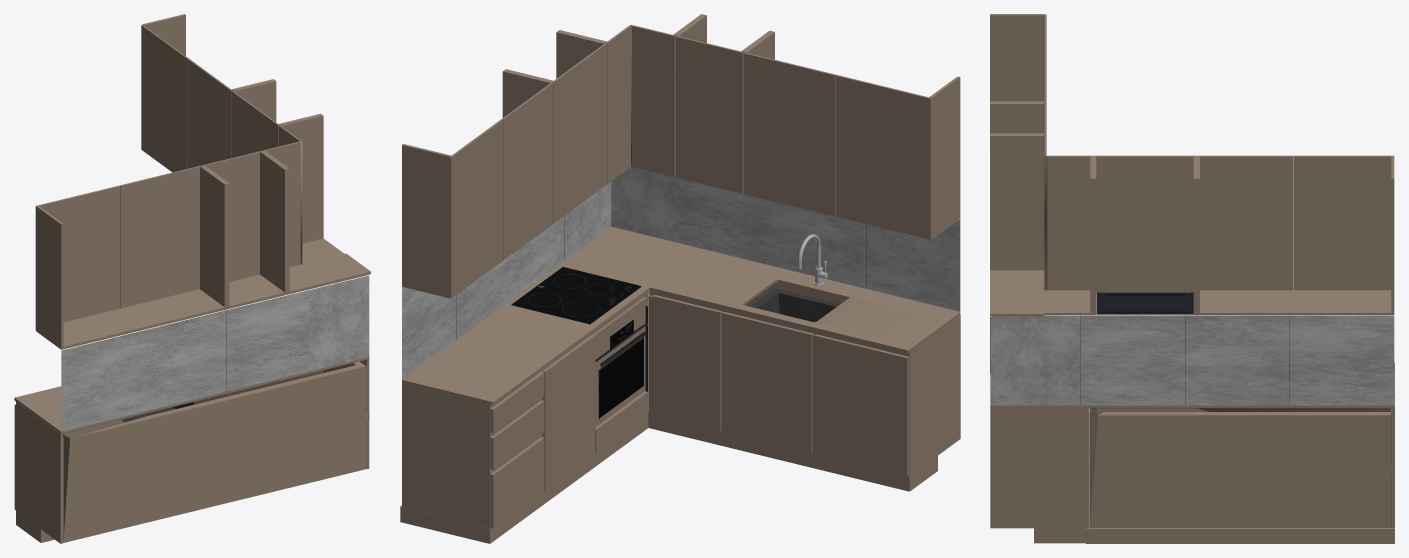
The picture shows the model from 3 angles, left to right: view 1: azimuth 30°, elevation 25°; view 2: azimuth 150°, elevation 25°; view 3: azimuth 270°, elevation 25°; orthographic projection. The views are drawn at different scales.
Visible parts, largest first — view 1: кухня.004, Плоскость.012; view 2: кухня.004, Плоскость.012, Плоскость.011, Group2132584548, Ovens.002, kitchen sink001.002; view 3: кухня.004, Плоскость.011, Hood.002.
Part boxes in pixels (x1,y1,x2,y2): кухня.004: (14, 14, 370, 543); Плоскость.012: (61, 275, 369, 431); кухня.004: (400, 14, 960, 543); Плоскость.012: (611, 166, 960, 311); Плоскость.011: (402, 182, 611, 379); Group2132584548: (511, 267, 641, 324); Ovens.002: (595, 306, 647, 418); kitchen sink001.002: (750, 288, 839, 321); кухня.004: (990, 14, 1394, 543); Плоскость.011: (990, 315, 1394, 405); Hood.002: (1096, 292, 1193, 314).
Size of the model in its own units: 2.43 by 2.5 by 2.52.
Materials: 19 (4 with a texture image).
